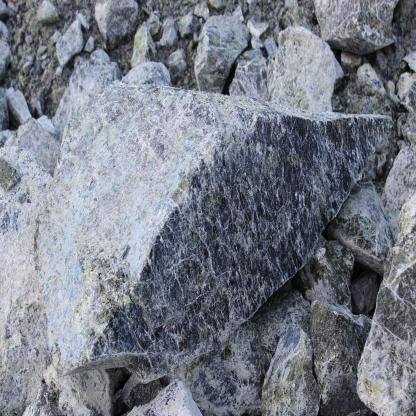stone: (39, 80, 393, 378), (353, 179, 416, 416), (309, 298, 371, 416), (271, 31, 342, 116), (332, 184, 396, 274), (261, 323, 320, 416), (193, 12, 250, 95), (226, 48, 270, 100), (95, 0, 139, 46), (54, 18, 83, 68), (132, 25, 156, 64)
